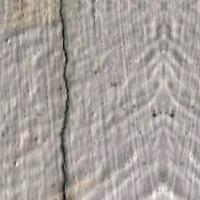crack: (34, 0, 112, 199)
